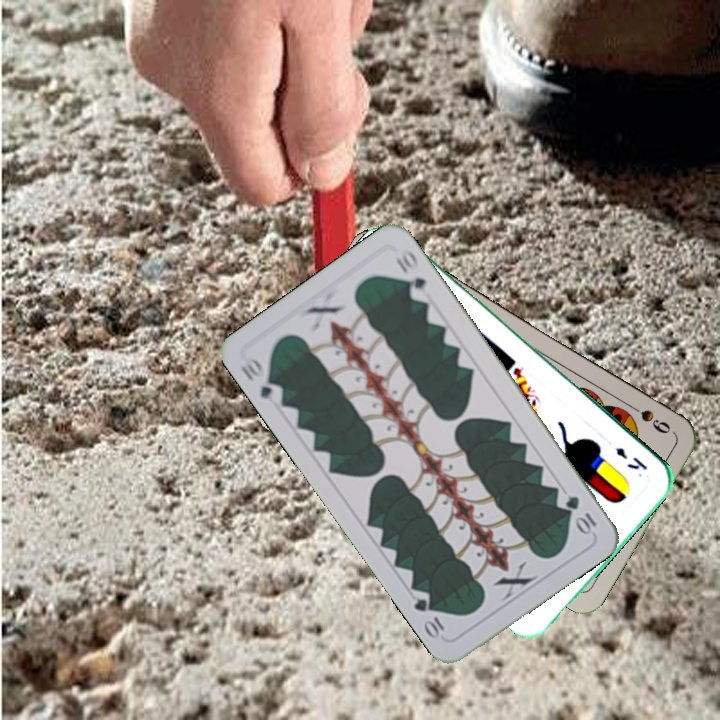EK: (611, 443, 651, 473)
G10: (236, 354, 286, 407), (561, 491, 599, 537)
S9: (622, 398, 673, 437)
